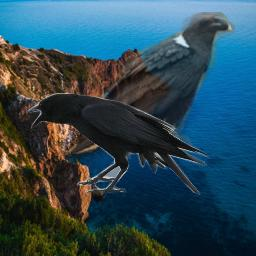Crow: (65, 12, 235, 162), (26, 93, 210, 195)
